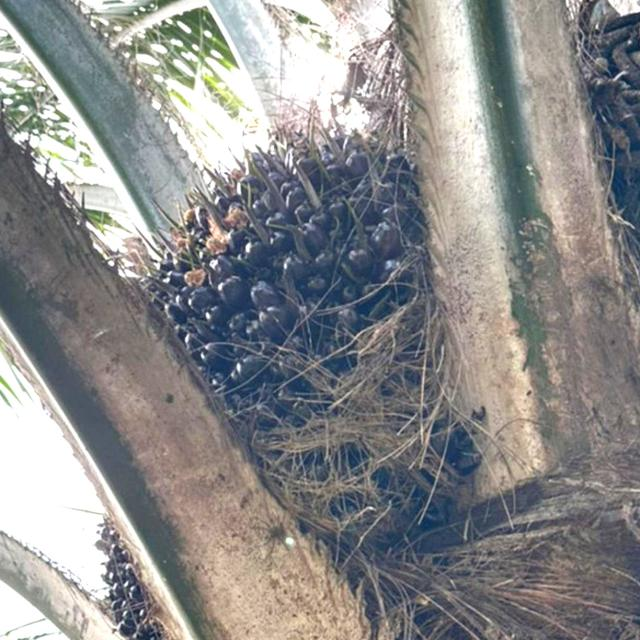almost: (131, 119, 469, 512)
